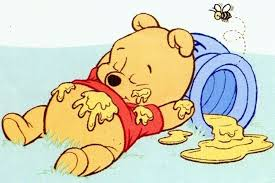Winnie: (101, 10, 198, 126)
